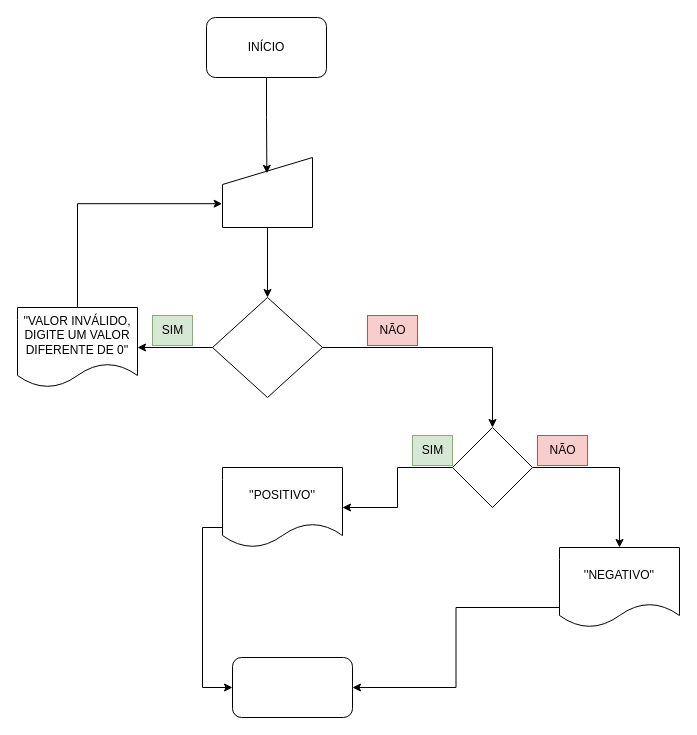
Some shapes in this 697 by 735 pixel diagram are drawn without their labels. The centre of each missing label's shape, as x and y in pixels:
FIM: (x=292, y=687)
VALOR1: (x=267, y=192)
VALOR1 == 0: (x=267, y=347)
VALOR1 > 0: (x=492, y=467)
